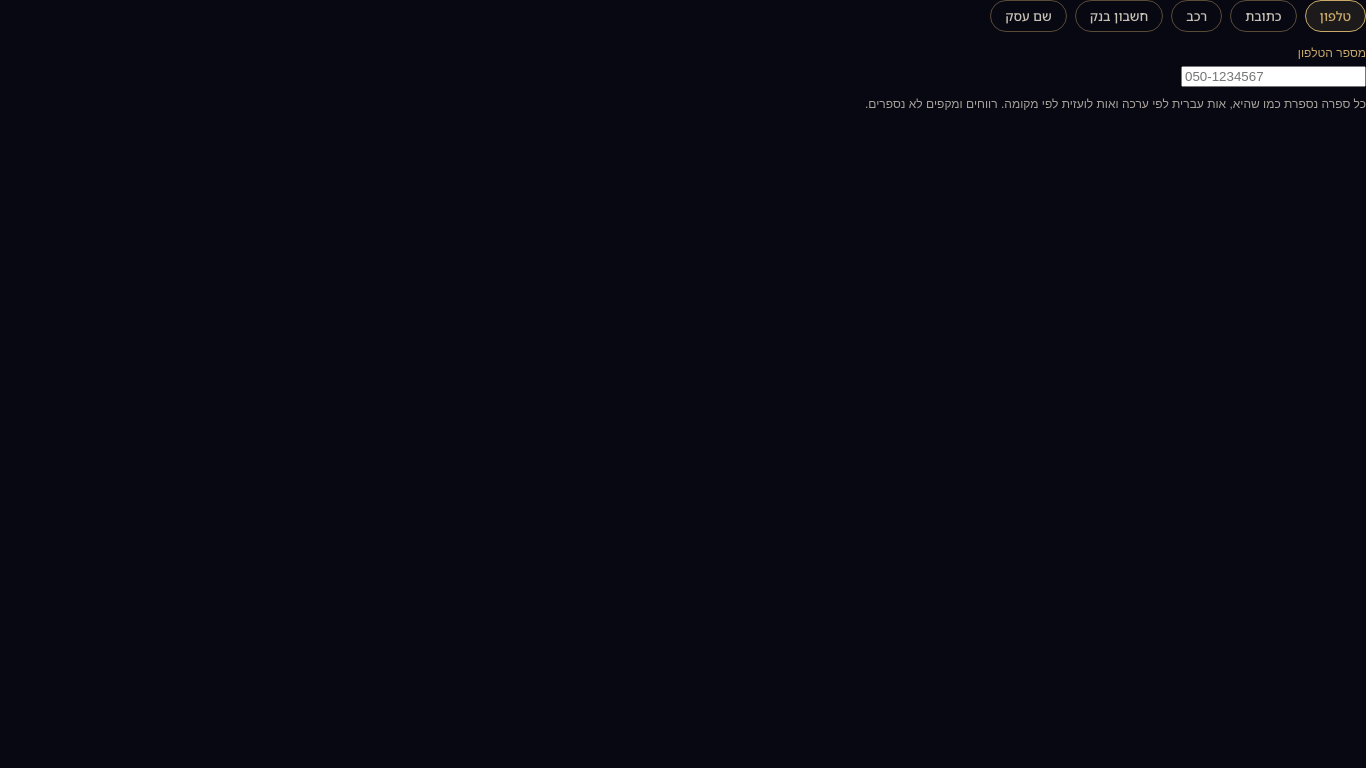
Test: practical numbers › works out a phone number as it is typed, with its title and how it was calculated
The image size is (1366, 768).
In the field labelled "מספר הטלפון": (1274, 77) [1181, 66, 1365, 87], type "052-1234567"
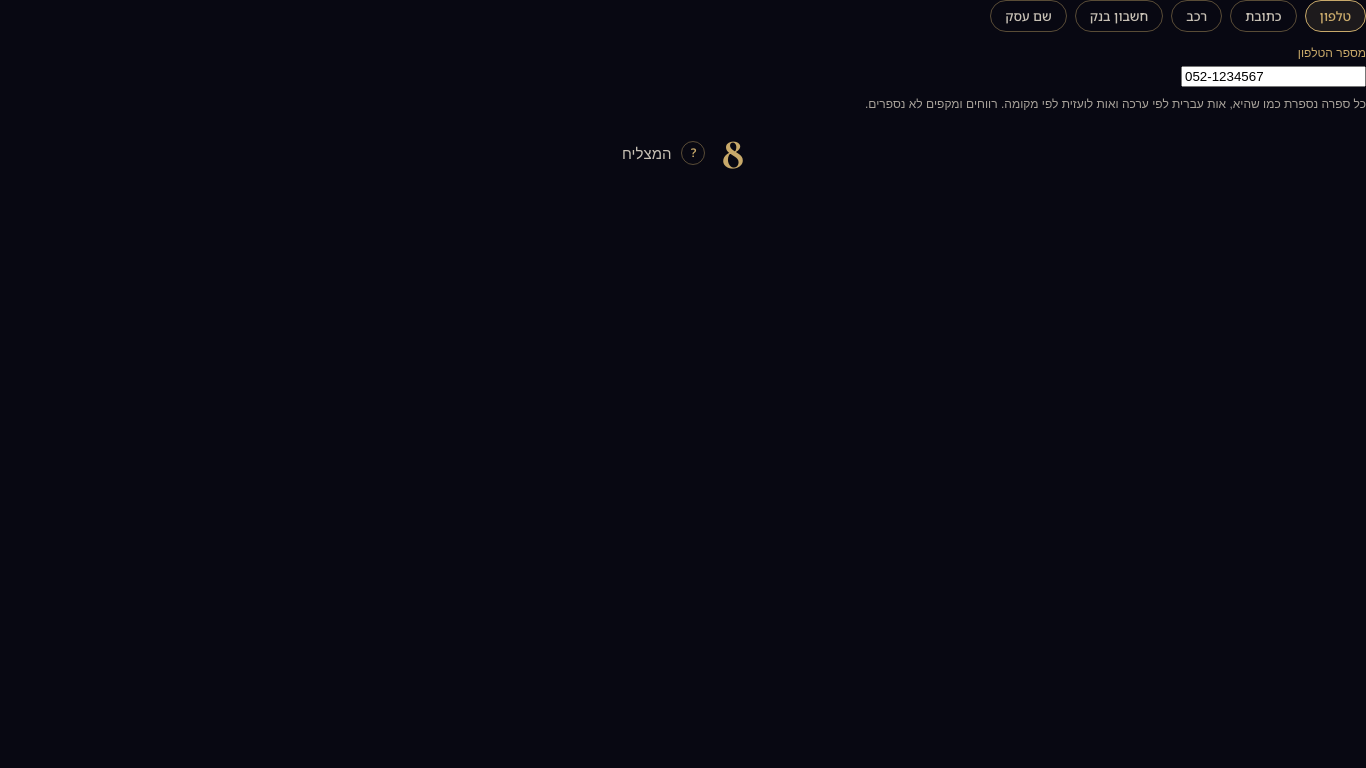
Expected: the text with test id "practical-number" reads "8", [722, 125, 744, 181]
Expected: the text "המצליח" is shown, [622, 145, 671, 162]
Click the button named "איך זה חושב: טלפון": (694, 153) [682, 141, 706, 165]
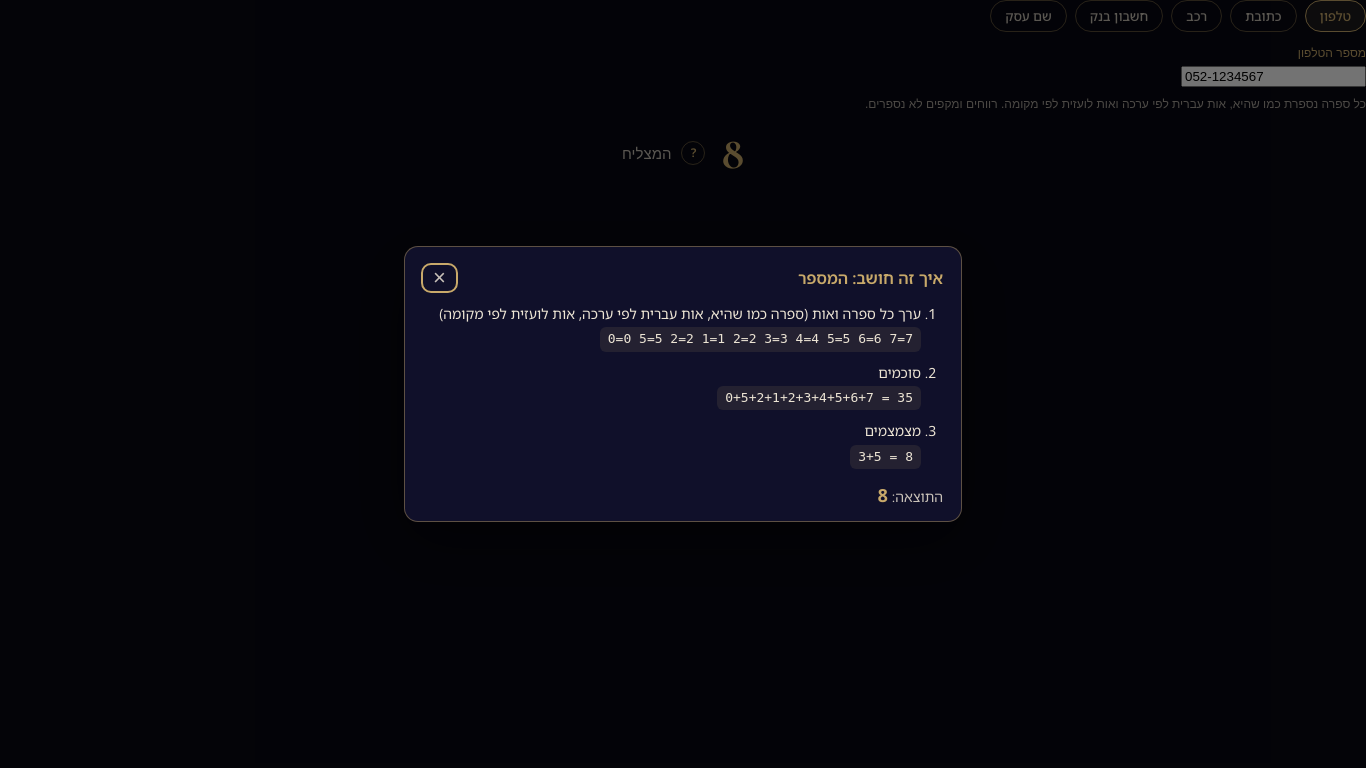
Expected: the text "0+5+2+1+2+3+4+5+6+7 = 35" is shown, [717, 386, 921, 410]
